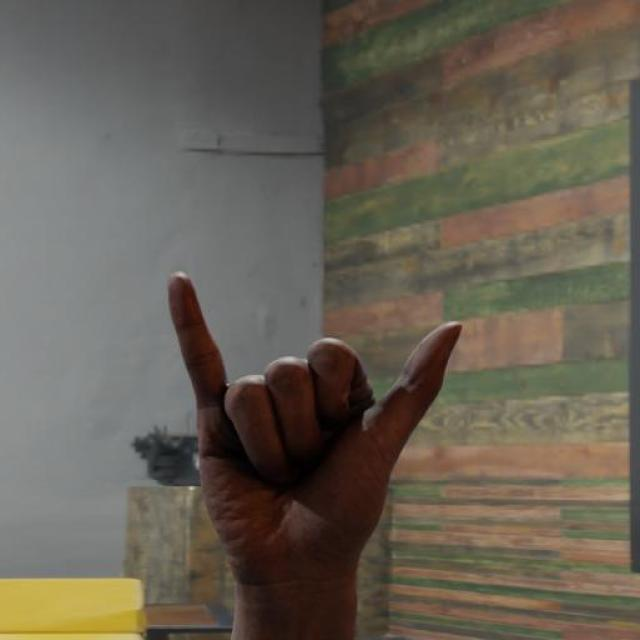Y: (161, 263, 470, 587)
